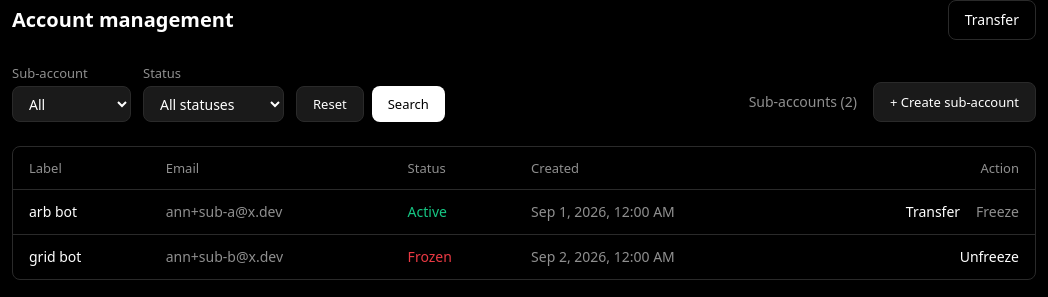
Test: Sub-accounts › filters on Search, not as the selects change, and Reset puts them back
Check: the cell "arb bot" is shown, box [13,190,150,234]
Select "Frozen" in the dropdown named "Status" at (214, 104), box [143,86,284,122]
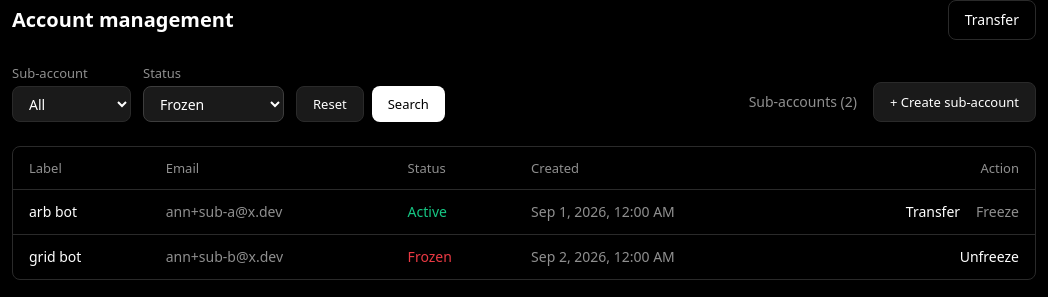
Check: the cell "arb bot" is shown, box [13,190,150,234]
Click the button "Search" at (408, 104), box [372,86,445,122]
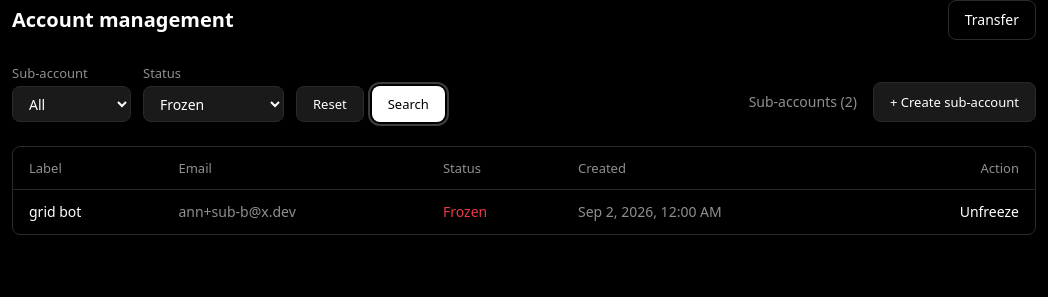
Check: the cell "grid bot" is shown, box [13,190,162,234]
Check: the cell "arb bot" is gone
Click the button "Reset" at (330, 104), box [296,86,364,122]
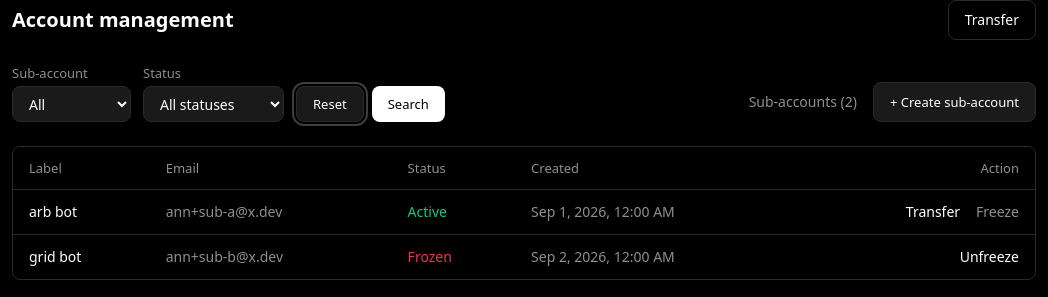
Check: the cell "arb bot" is shown, box [13,190,150,234]
